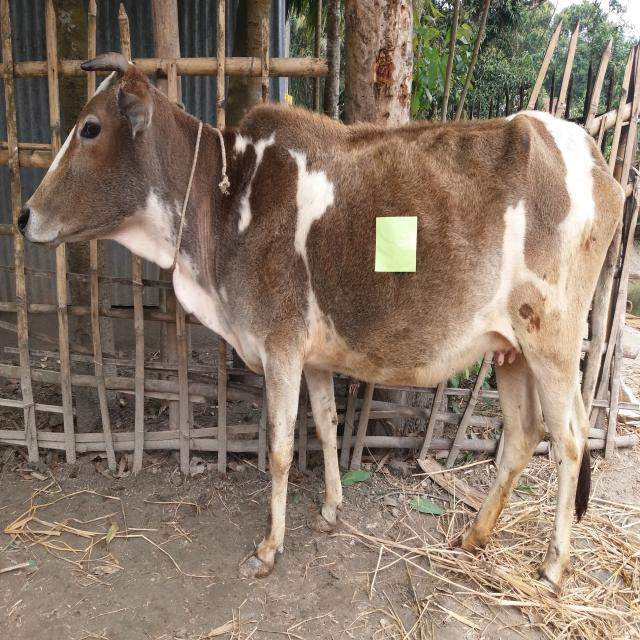badan_sapi: (261, 126, 590, 375)
sapi: (15, 43, 638, 605)
